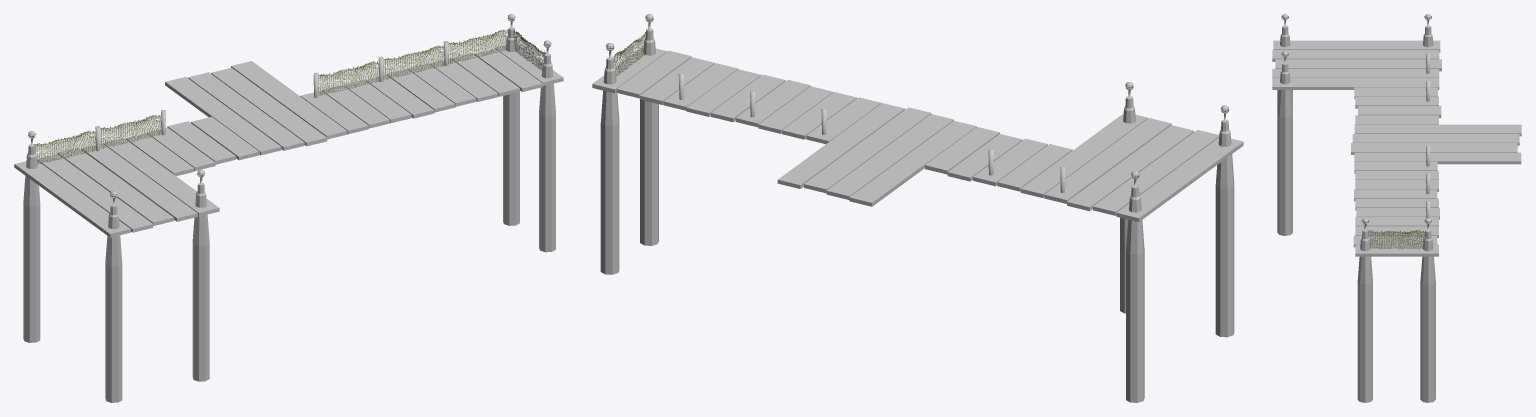
File: Embarcadero.fbx
3 views of the same model, side by side, from view 1: azimuth 30°, elevation 25°; view 2: azimuth 150°, elevation 25°; view 3: azimuth 270°, elevation 25° (orthographic). The views are drawn at different scales.
Visible parts, largest first — view 1: Cube.022, Cilindro.006, Cilindro.005, Cilindro, Cilindro.002, Cilindro.001, Plano.003, Plano.002, Plano.001, Plano, Plano.004, Cilindro.003 (+1 smaller); view 2: Cube.022, Cilindro.001, Cilindro.006, Cilindro, Cilindro.002, Cilindro.005, Cilindro.003, Plano.005; view 3: Cube.022, Cilindro.002, Cilindro.001, Cilindro.005, Plano.005, Cilindro.003, Cilindro.006, Cilindro.
Boxes of the visible parts, left/top/right/bottom form: Cube.022: left=14, top=44, right=563, bottom=237; Cilindro.006: left=105, top=191, right=122, bottom=402; Cilindro.005: left=192, top=169, right=209, bottom=381; Cilindro: left=23, top=131, right=40, bottom=342; Cilindro.002: left=539, top=40, right=555, bottom=252; Cilindro.001: left=503, top=14, right=519, bottom=225; Plano.003: left=383, top=45, right=444, bottom=79; Plano.002: left=318, top=61, right=379, bottom=95; Plano.001: left=100, top=115, right=161, bottom=148; Plano: left=33, top=130, right=95, bottom=164; Plano.004: left=448, top=29, right=508, bottom=63; Cilindro.003: left=95, top=41, right=448, bottom=151; Cube.022: left=592, top=47, right=1243, bottom=221; Cilindro.001: left=600, top=43, right=619, bottom=274; Cilindro.006: left=1215, top=105, right=1234, bottom=337; Cilindro: left=1126, top=171, right=1144, bottom=402; Cilindro.002: left=640, top=14, right=658, bottom=245; Cilindro.005: left=1120, top=82, right=1135, bottom=313; Cilindro.003: left=678, top=72, right=1065, bottom=192; Plano.005: left=612, top=29, right=648, bottom=75; Cube.022: left=1272, top=40, right=1521, bottom=256; Cilindro.002: left=1357, top=218, right=1372, bottom=402; Cilindro.001: left=1420, top=218, right=1435, bottom=402; Cilindro.005: left=1277, top=51, right=1292, bottom=235; Plano.005: left=1366, top=230, right=1425, bottom=249; Cilindro.003: left=1426, top=51, right=1430, bottom=218; Cilindro.006: left=1277, top=14, right=1292, bottom=113; Cilindro: left=1423, top=14, right=1433, bottom=47.
Size of the model in its own units: 1194 by 2415 by 959.
